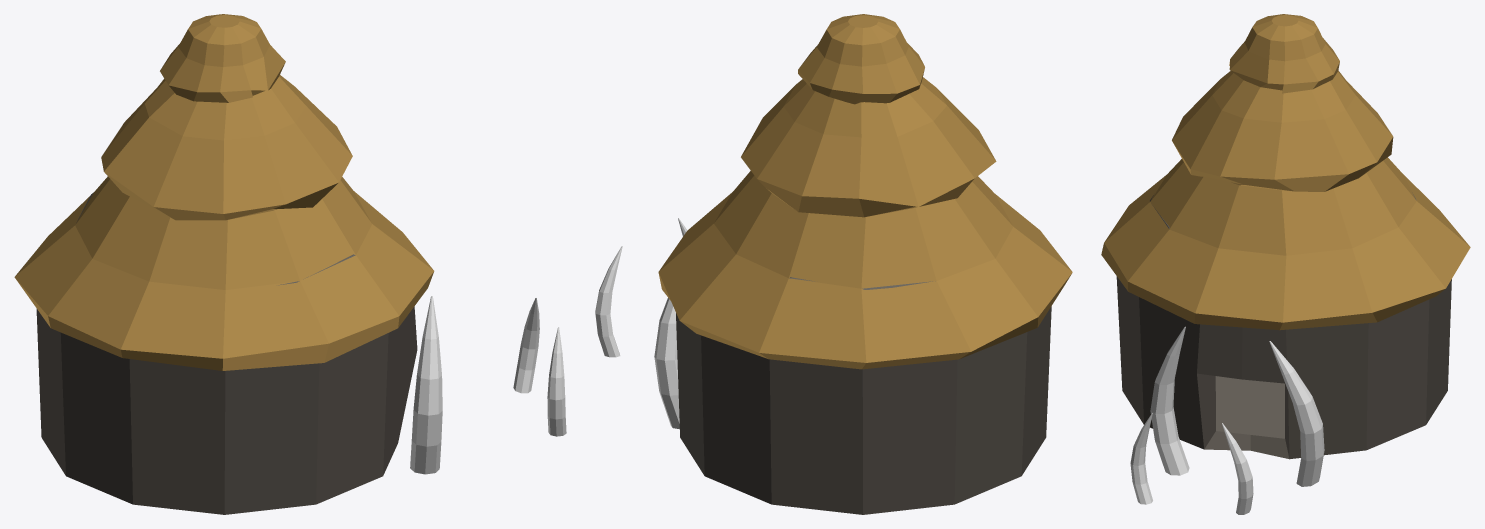
The model's file is big_house.fbx.
3 renders of one model, left to right at view 1: azimuth 30°, elevation 25°; view 2: azimuth 150°, elevation 25°; view 3: azimuth 270°, elevation 25°, orthographic. The views are drawn at different scales.
Parts seen in each view (by area): view 1: Cylinder, Cylinder.004, Cylinder.001, Cylinder.002; view 2: Cylinder, Cylinder.005, Cylinder.002; view 3: Cylinder, Cylinder.004, Cylinder.005, Cylinder.001, Cylinder.002.
Boxes of the visible parts, x1,y1,x2,y2 form: Cylinder: (14, 14, 434, 514); Cylinder.004: (410, 296, 442, 474); Cylinder.001: (547, 327, 566, 436); Cylinder.002: (513, 297, 539, 393); Cylinder: (658, 14, 1072, 514); Cylinder.005: (654, 298, 679, 429); Cylinder.002: (595, 246, 622, 357); Cylinder: (1101, 14, 1470, 459); Cylinder.004: (1150, 326, 1189, 475); Cylinder.005: (1269, 341, 1324, 486); Cylinder.001: (1130, 413, 1152, 504); Cylinder.002: (1222, 423, 1253, 514).
Bounding box in the file's own units: 541 × 486 × 418.
